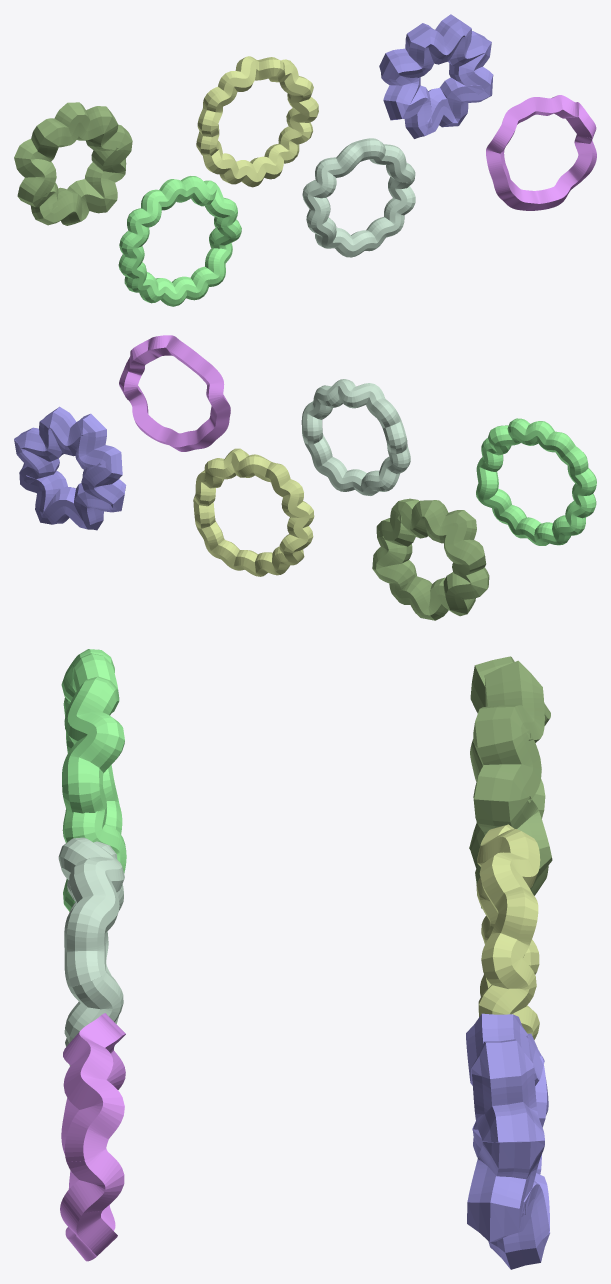
The model's file is Lambert_Closed Spline_2023-07-23-20-47-44.gltf.
The picture shows the model from 3 angles, top to bottom: view 1: azimuth 30°, elevation 25°; view 2: azimuth 150°, elevation 25°; view 3: azimuth 270°, elevation 25°; orthographic projection. The views are drawn at different scales.
Bounding box in the file's own units: 524 × 132 × 237.
